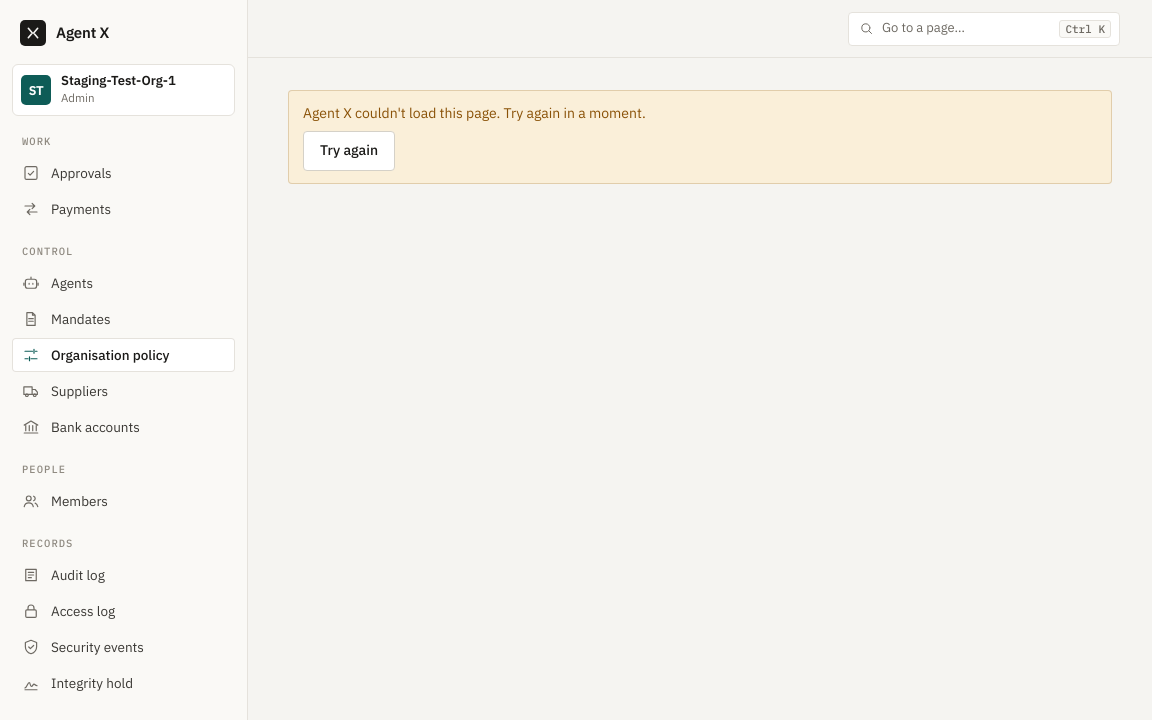
Test: the organisation’s policy (6D3b) › says a policy it can’t read plainly, with a retry
Click the button "Try again" at (349, 151), box [303,131,395,171]
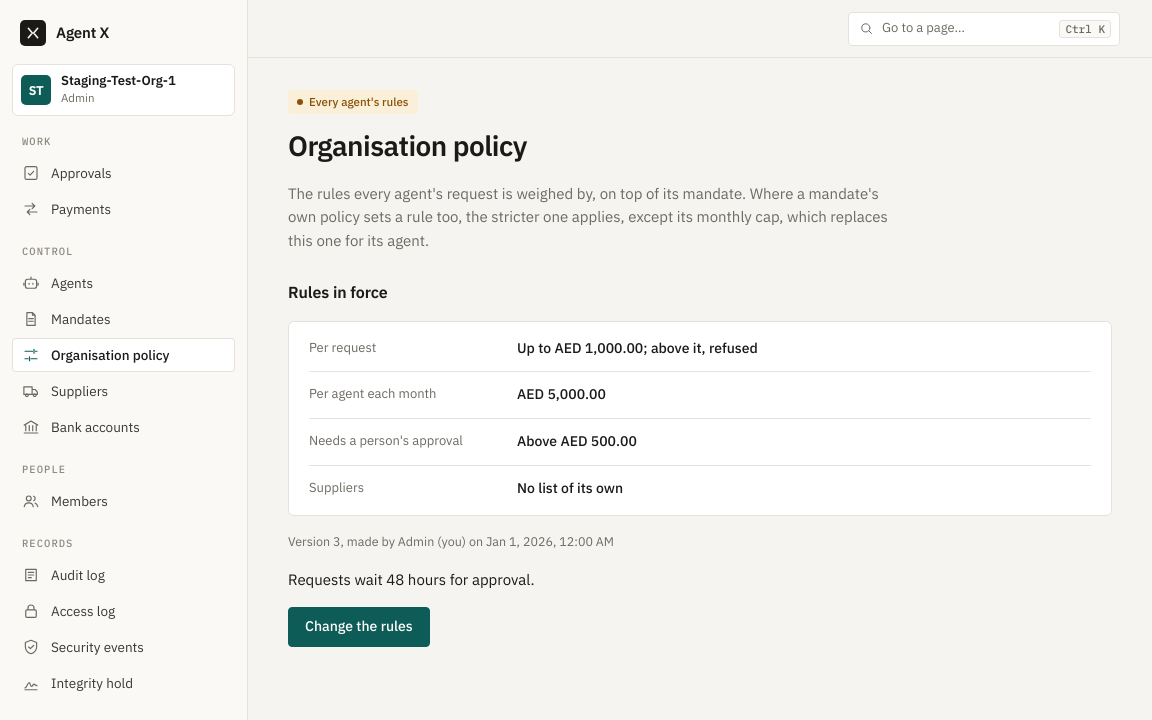
Expected: the heading "Organisation policy" is shown, [288,127,527,164]
